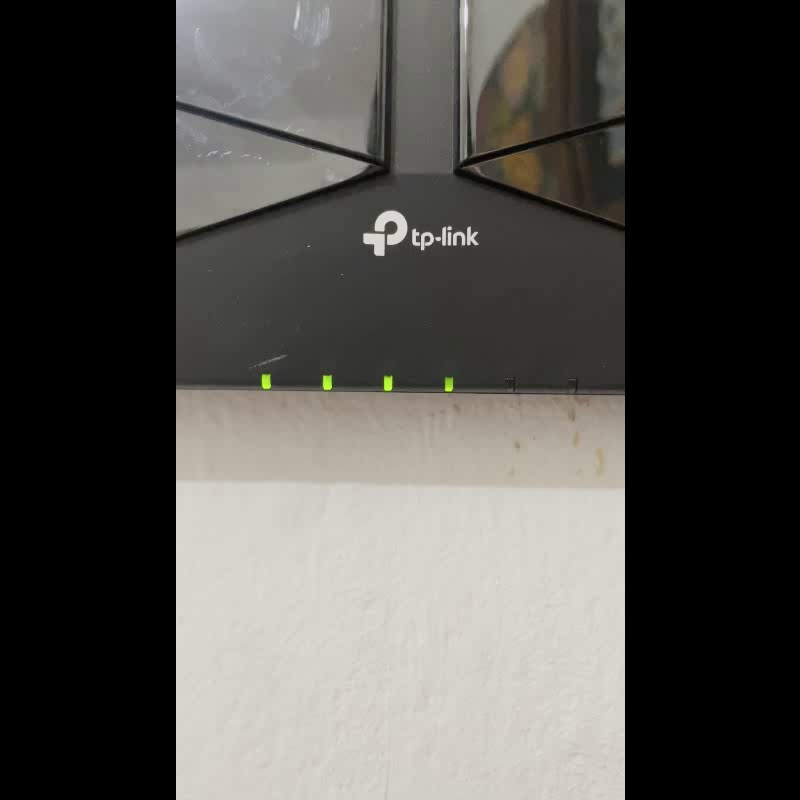off: (565, 376, 578, 392), (505, 374, 514, 391)
on_green: (260, 372, 271, 388), (322, 373, 331, 390), (444, 375, 453, 391), (383, 374, 392, 390)
